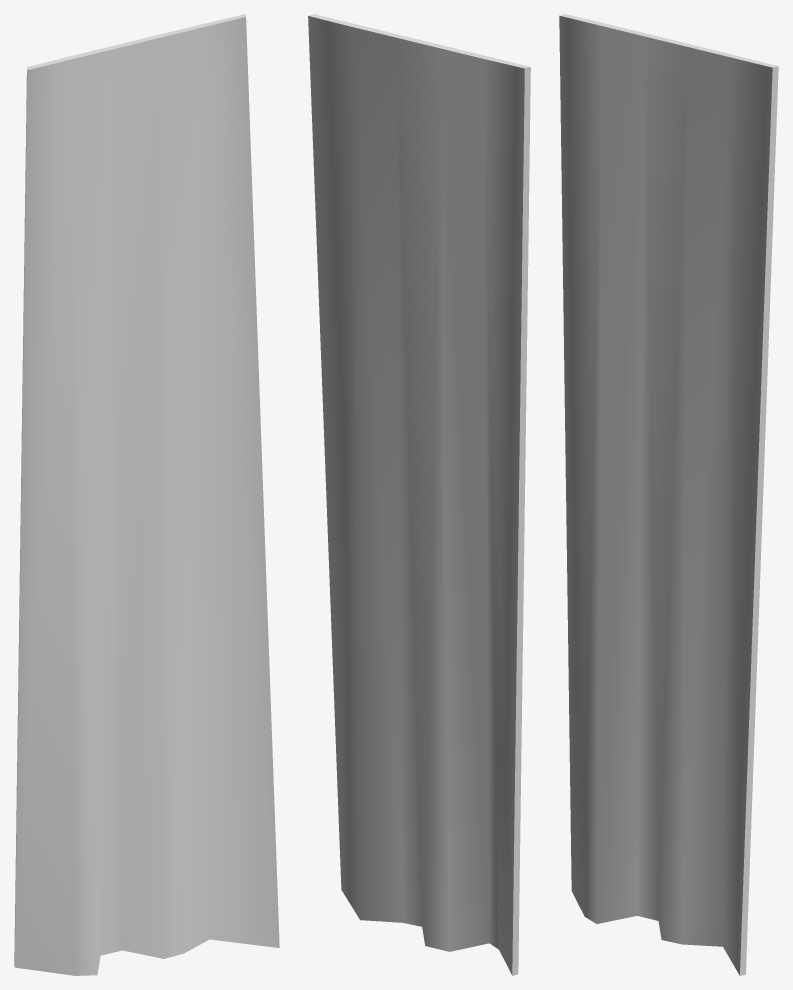
Rendered from Curtains_020.glb.
3 renders of one model, left to right at view 1: azimuth 30°, elevation 25°; view 2: azimuth 150°, elevation 25°; view 3: azimuth 330°, elevation 25°, orthographic. The views are drawn at different scales.
Parts seen in each view (by area): view 1: Curtains_020; view 2: Curtains_020; view 3: Curtains_020.
Part boxes in pixels (x1,y1,x2,y2): Curtains_020: (14,14,279,975); Curtains_020: (308,14,530,975); Curtains_020: (559,14,778,975).
Bounding box in the file's own units: 0.6905 × 2.7 × 0.267.
Materials: 1 (1 with a texture image).
